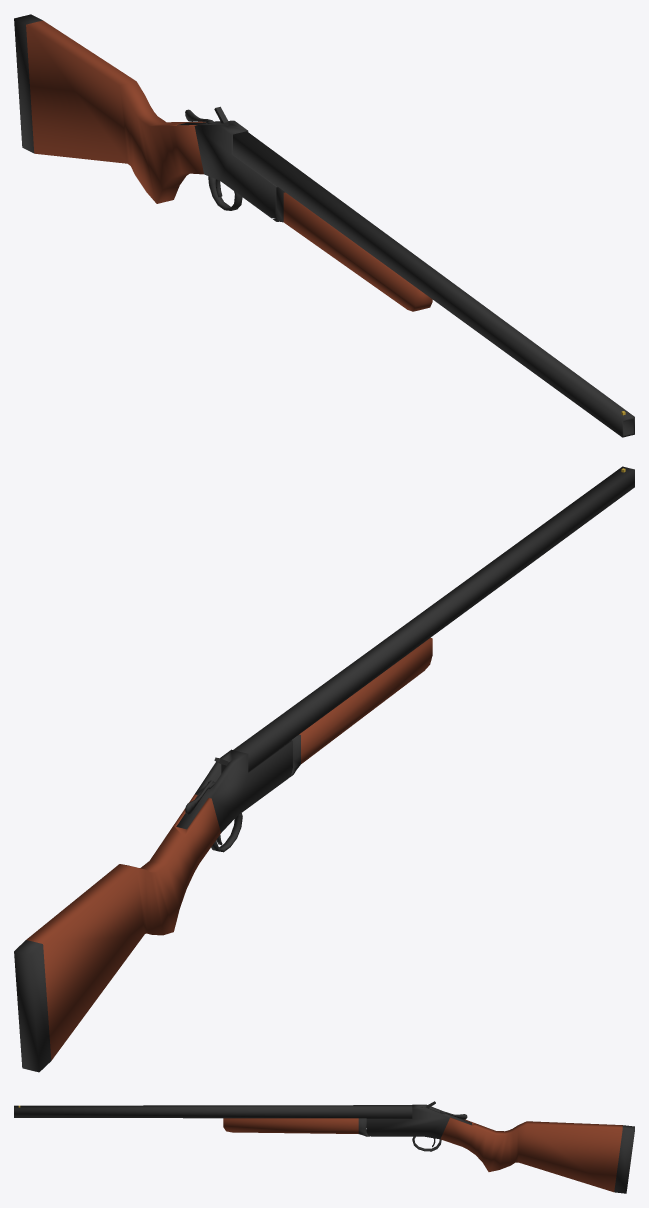
Rendered from SingleShot.glb.
The picture shows the model from 3 angles, top to bottom: view 1: azimuth 30°, elevation 25°; view 2: azimuth 150°, elevation 25°; view 3: azimuth 270°, elevation 25°; orthographic projection. The views are drawn at different scales.
Visible parts, largest first — view 1: Stock, Barrel, Foregrip, Receiver; view 2: Stock, Barrel, Receiver, Foregrip; view 3: Stock, Barrel, Foregrip, Receiver.
Boxes of the visible parts, bbox=[...] form: Stock: bbox=[14, 14, 205, 203]; Barrel: bbox=[233, 131, 634, 437]; Foregrip: bbox=[273, 187, 432, 311]; Receiver: bbox=[177, 120, 277, 218]; Stock: bbox=[14, 794, 220, 1072]; Barrel: bbox=[233, 466, 634, 771]; Receiver: bbox=[176, 740, 292, 832]; Foregrip: bbox=[289, 638, 432, 777]; Stock: bbox=[440, 1117, 634, 1193]; Barrel: bbox=[14, 1105, 412, 1118]; Foregrip: bbox=[223, 1118, 369, 1136]; Receiver: bbox=[366, 1104, 471, 1139].
Bounding box in the file's own units: 0.0725 × 0.711 × 4.46.
